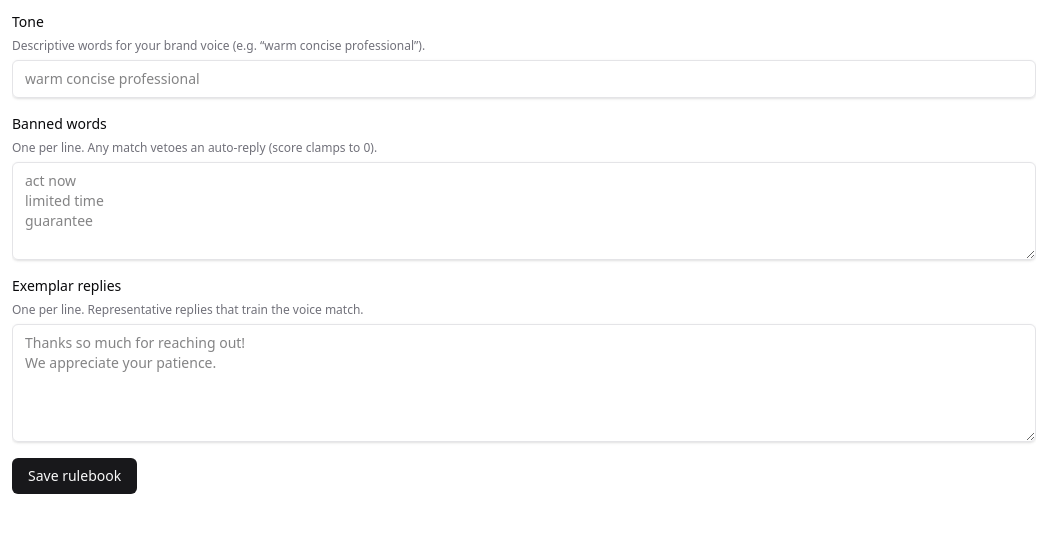
BrandVoiceEditor › blocks save and surfaces the offending word when an exemplar contains a banned word
The image size is (1048, 543).
Type "spam" into the text box labelled "Banned words" at (524, 211), box [12,162,1036,260]
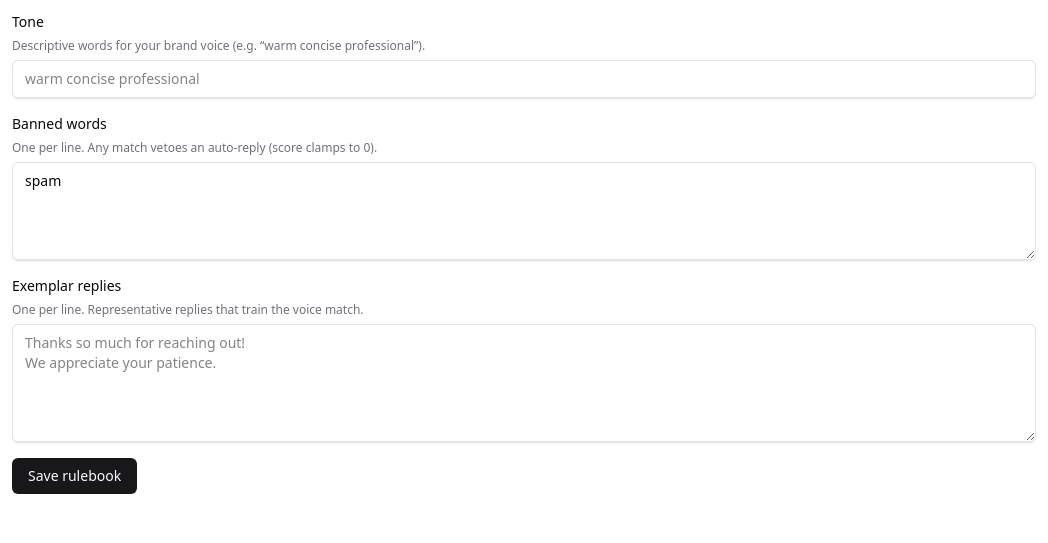
Replace the text in the text box labelled "Exemplar replies" with "Thanks, this is not Spam at all." at (524, 383), box [12,324,1036,442]
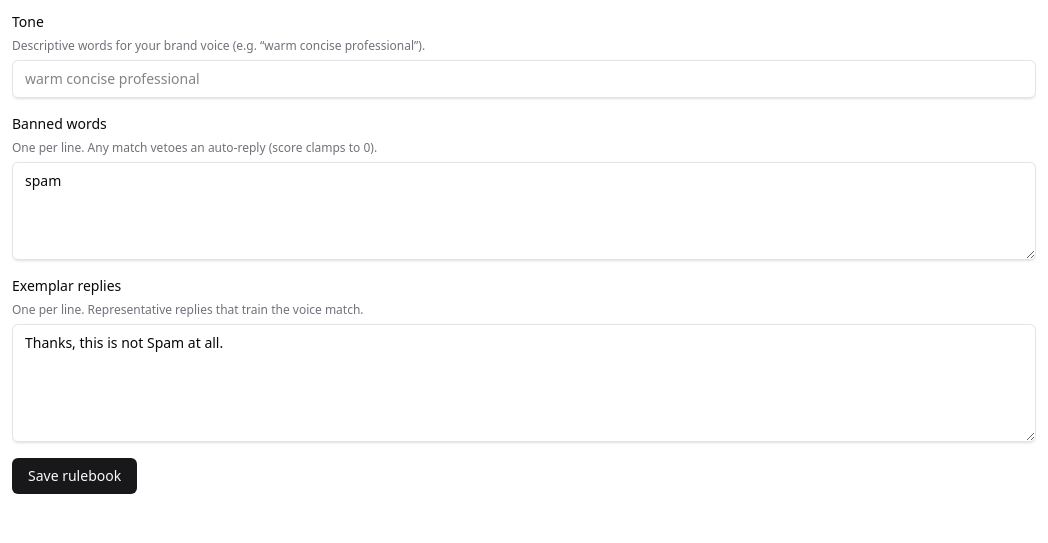
Click the button "Save rulebook" at (75, 476), box [12,458,137,494]
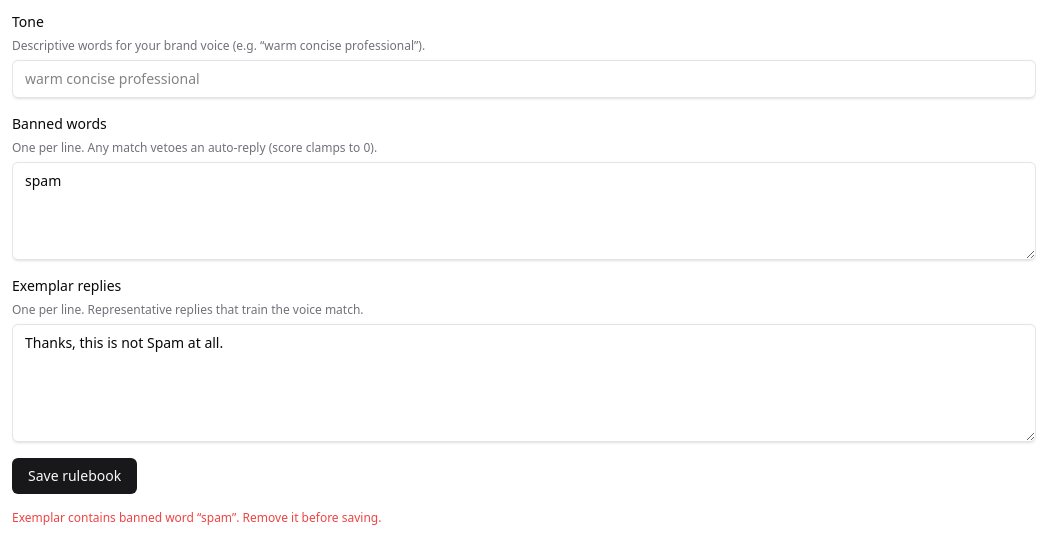
Expected: the message reads "Exemplar contains banned word “spam”. Remove it before saving.", [12,509,381,526]
